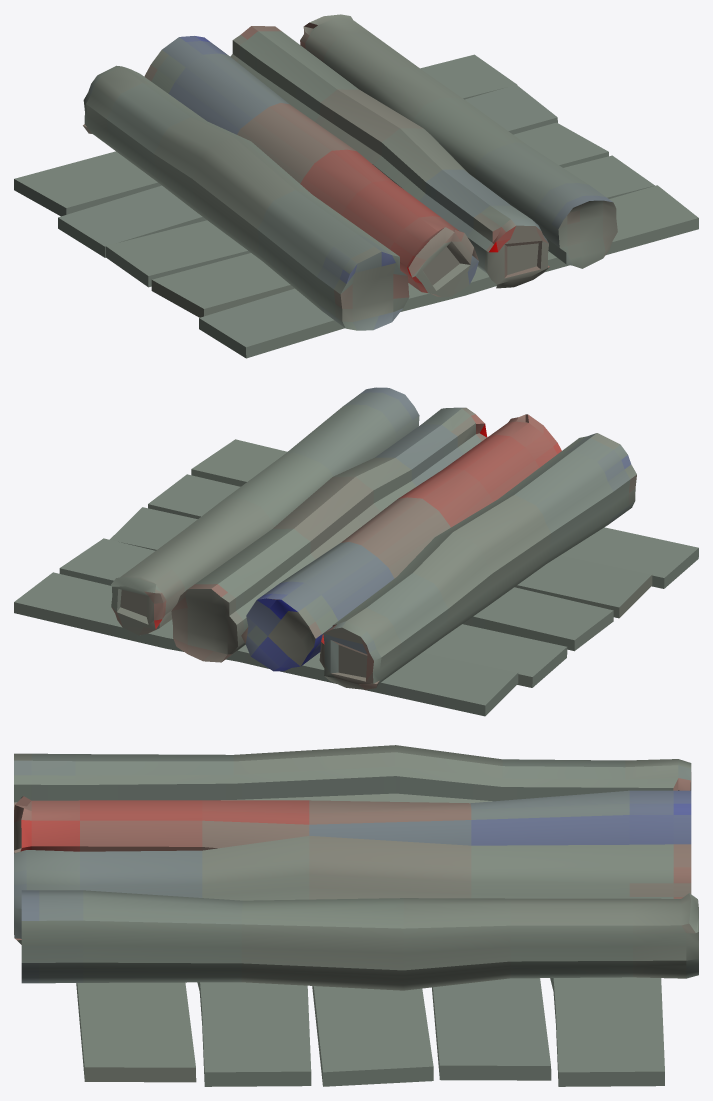
File: ramp.fbx
3 renders of one model, top to bottom at view 1: azimuth 30°, elevation 25°; view 2: azimuth 150°, elevation 25°; view 3: azimuth 270°, elevation 25°, orthographic. The views are drawn at different scales.
Parts seen in each view (by area): view 1: Mesh; view 2: Mesh; view 3: Mesh.
Part boxes in pixels (left/top/right/bottom): Mesh: left=14, top=14, right=698, bottom=358; Mesh: left=14, top=387, right=698, bottom=716; Mesh: left=14, top=745, right=698, bottom=1086.
Size of the model in its own units: 663 by 127 by 643.
